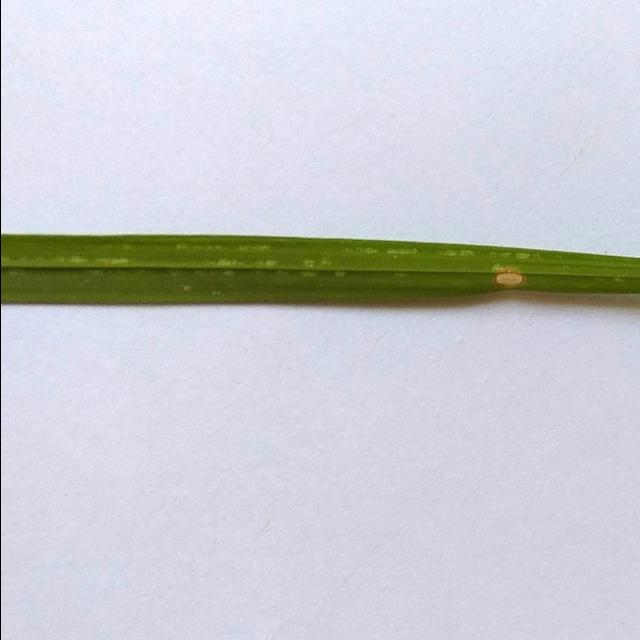Leaf blast: (0, 233, 640, 307)
